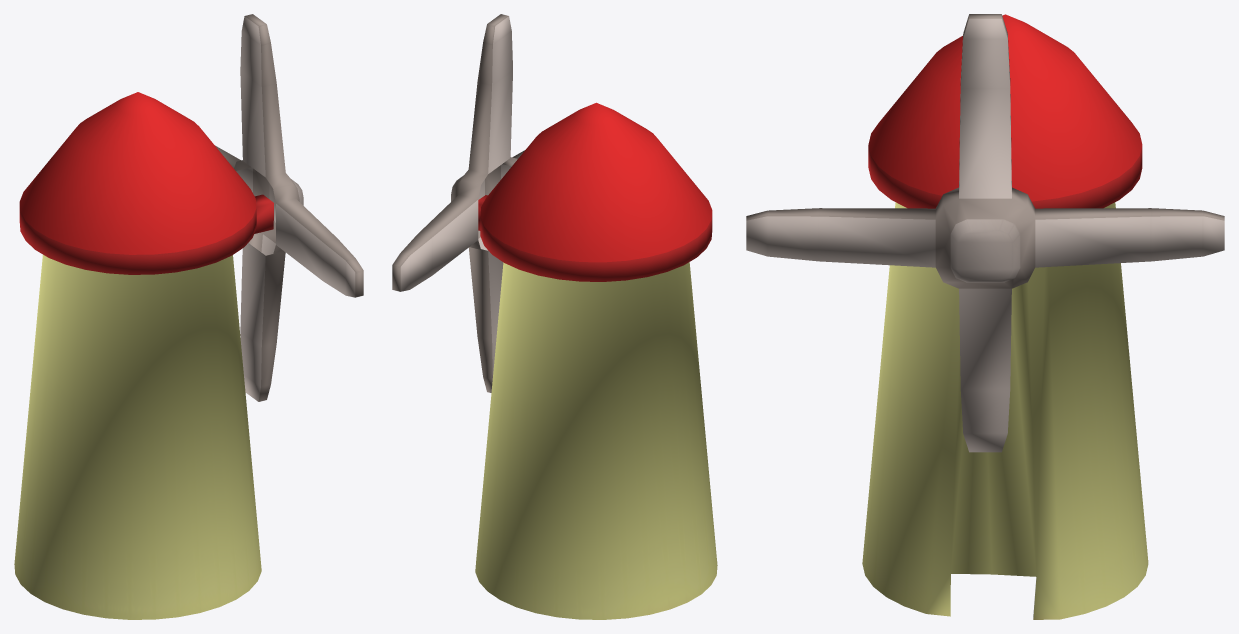
The model's file is Windmill.fbx.
The picture shows the model from 3 angles, left to right: view 1: azimuth 30°, elevation 25°; view 2: azimuth 150°, elevation 25°; view 3: azimuth 270°, elevation 25°; orthographic projection. The views are drawn at different scales.
Parts seen in each view (by area): view 1: Windmill, Propellor; view 2: Windmill, Propellor; view 3: Windmill, Propellor.
Part boxes in pixels (x1,y1,x2,y2): Windmill: (14,92,273,619); Propellor: (215,14,363,401); Windmill: (475,102,717,619); Propellor: (392,14,524,392); Windmill: (862,14,1148,619); Propellor: (746,14,1224,452).
Bounding box in the file's own units: 3.15 × 6.29 × 4.48.
